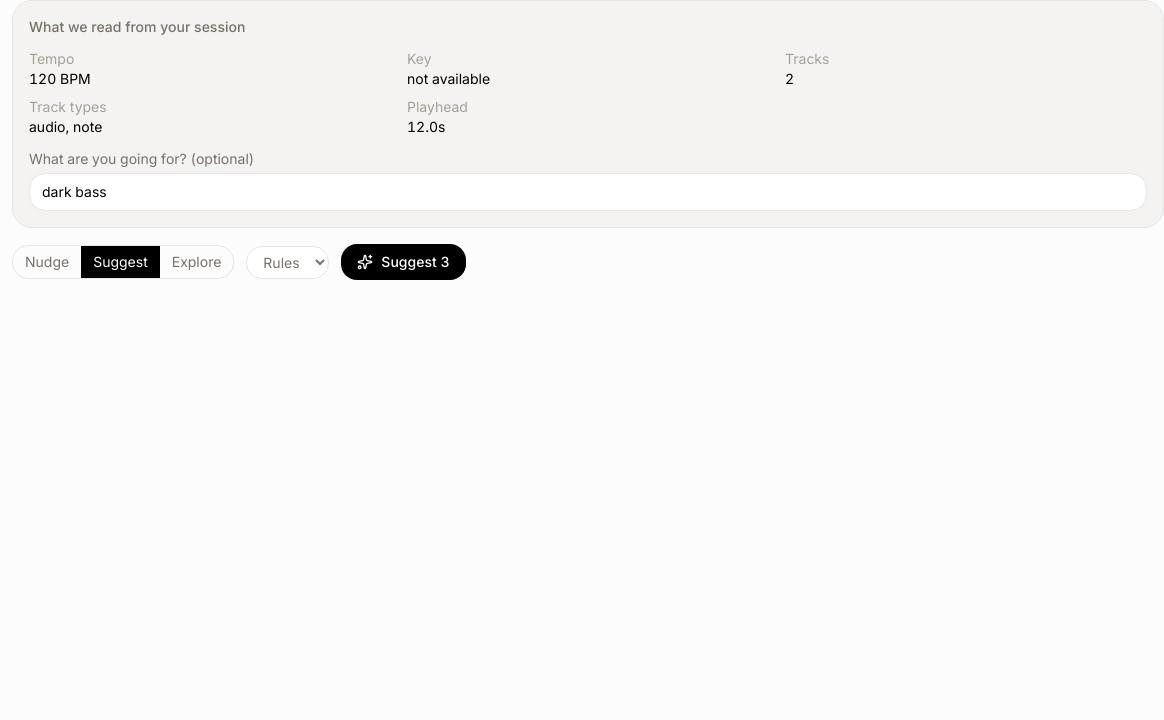
it: ContinuationPanel › renders three candidates with evidence after requesting suggestions
Step 1. Click the button "Suggest 3" → (404, 262), box [341,244,466,280]
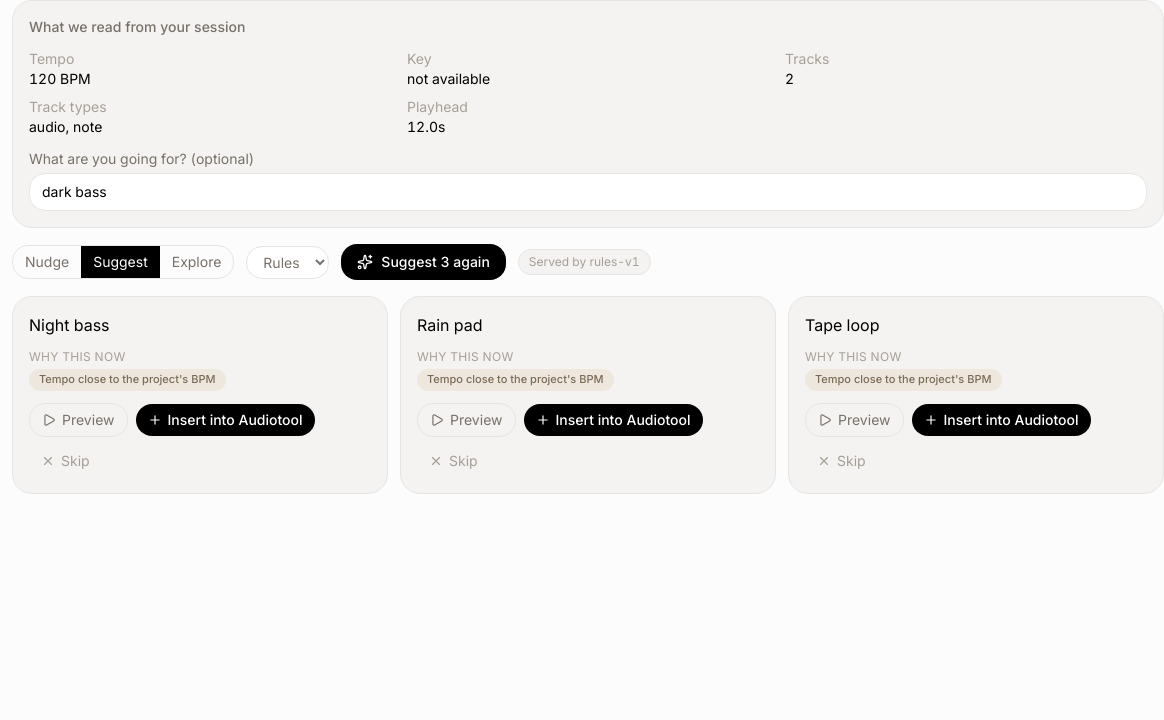
expect the heading "Night bass" is shown: met, box [29,313,110,337]
expect the heading "Rain pad" is shown: met, box [417,313,483,337]
expect the heading "Tape loop" is shown: met, box [805,313,879,337]
